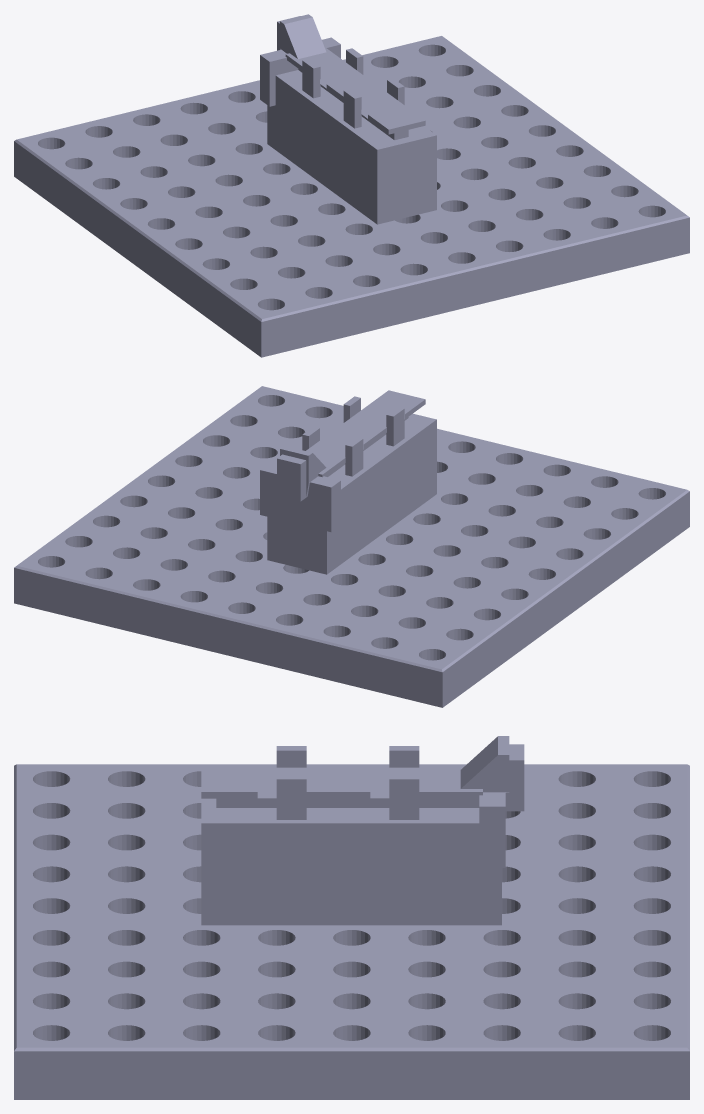
The model's file is pallet_bevel_steel_forato.glb.
3 views of the same model, one above another, from view 1: azimuth 30°, elevation 25°; view 2: azimuth 150°, elevation 25°; view 3: azimuth 270°, elevation 25° (orthographic). The views are drawn at different scales.
Parts seen in each view (by area): view 1: PiastraForata, Pallet; view 2: PiastraForata, Pallet; view 3: PiastraForata, Pallet.
Boxes of the visible parts, x1=… form: PiastraForata: x1=14, y1=36, x2=689, y2=357; Pallet: x1=260, y1=14, x2=436, y2=224; PiastraForata: x1=14, y1=386, x2=689, y2=707; Pallet: x1=260, y1=390, x2=436, y2=574; PiastraForata: x1=14, y1=764, x2=689, y2=1099; Pallet: x1=201, y1=736, x2=524, y2=925.
Bounding box in the file's own units: 0.18 × 0.0622 × 0.18.
